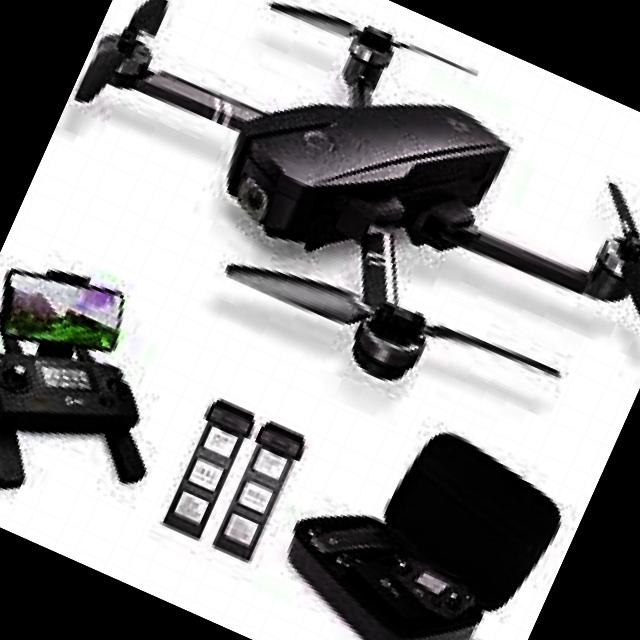drone: (12, 0, 640, 484)
